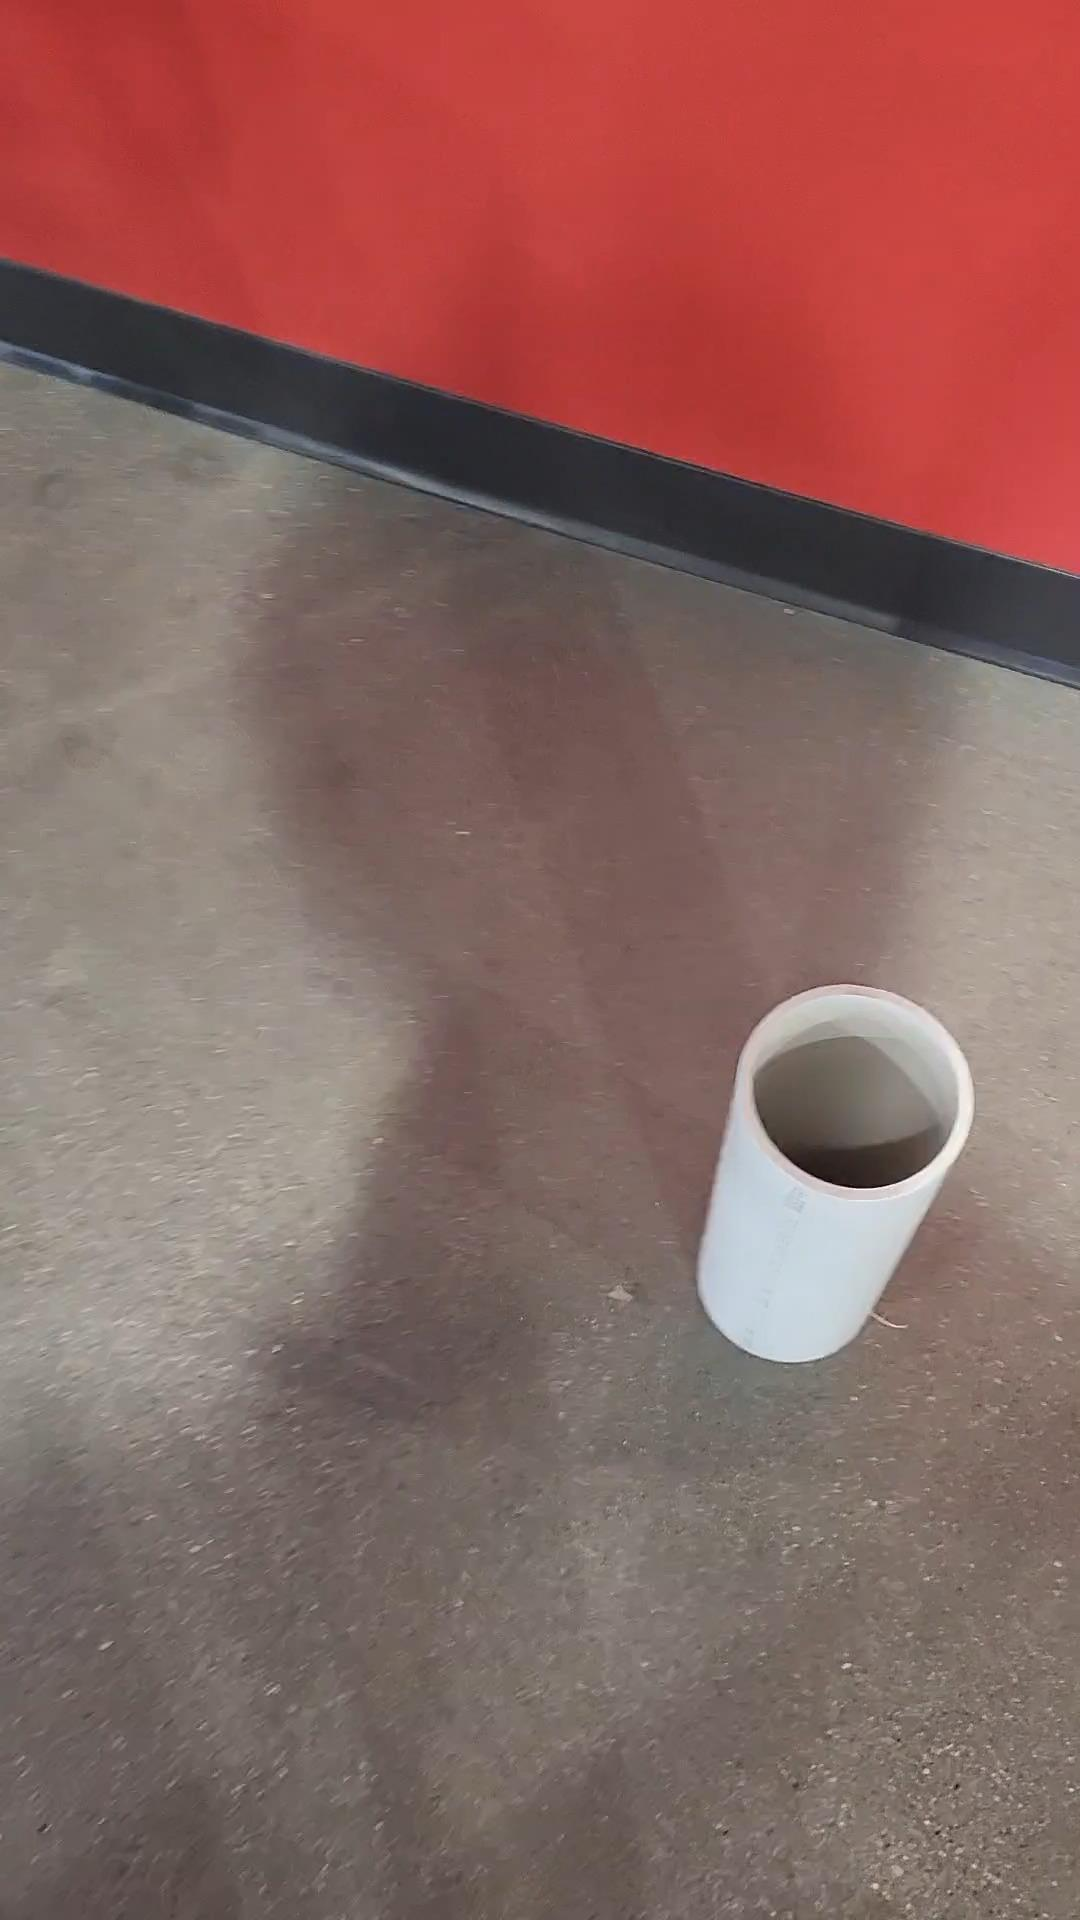coral: (692, 980, 978, 1367)
